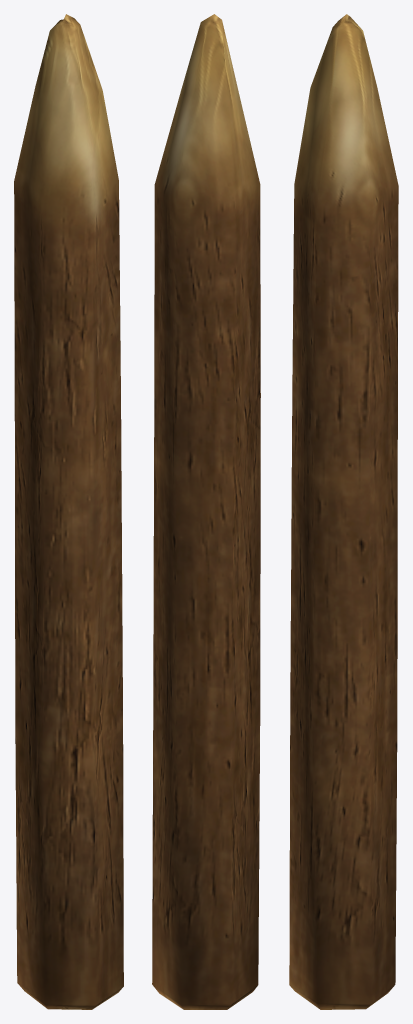
File: log_03.FBX
3 renders of one model, left to right at view 1: azimuth 90°, elevation 25°; view 2: azimuth 210°, elevation 25°; view 3: azimuth 270°, elevation 25°, orthographic.
Visible parts, largest first — view 1: log_03; view 2: log_03; view 3: log_03.
Boxes of the visible parts, x1=… form: log_03: x1=14, y1=14, x2=123, y2=1009; log_03: x1=152, y1=14, x2=260, y2=1009; log_03: x1=289, y1=14, x2=398, y2=1009.
Bounding box in the file's own units: 5.88 × 65.34 × 6.61.
